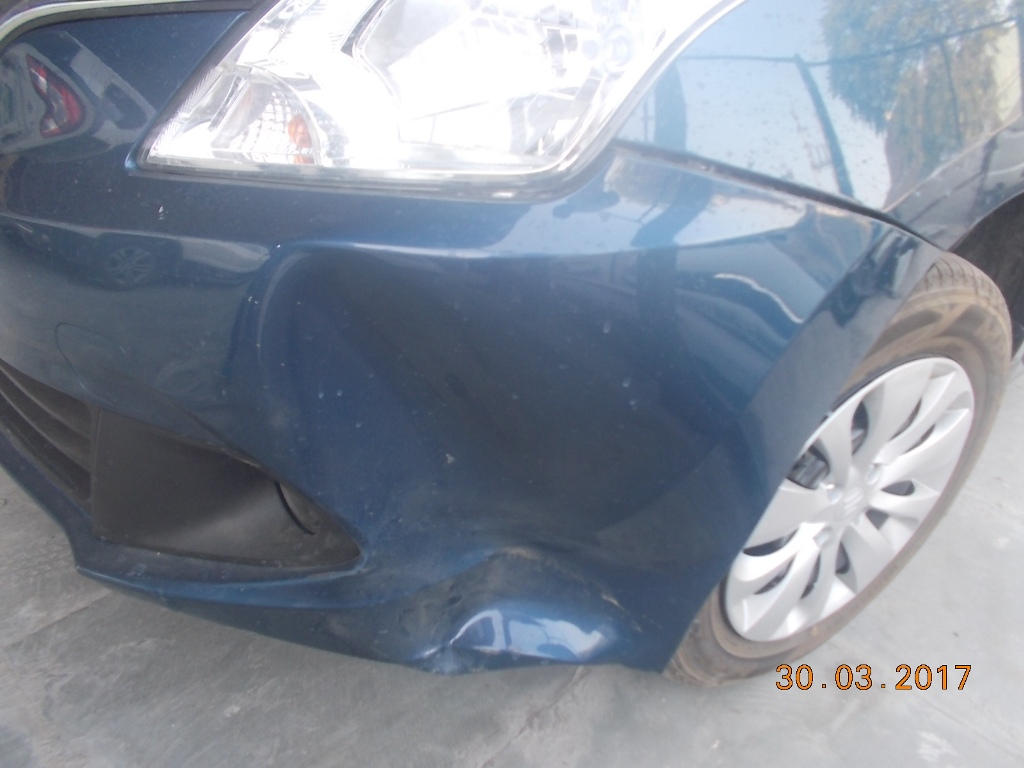Dent: (253, 239, 682, 671)
